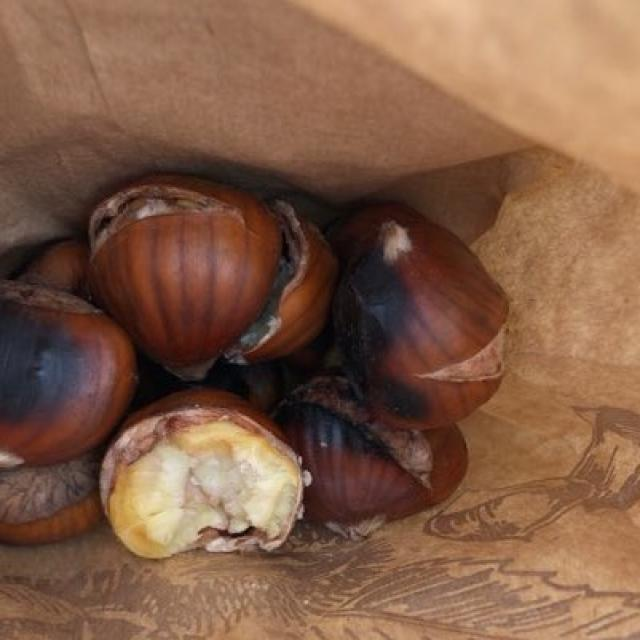nuts: (10, 177, 504, 553)
